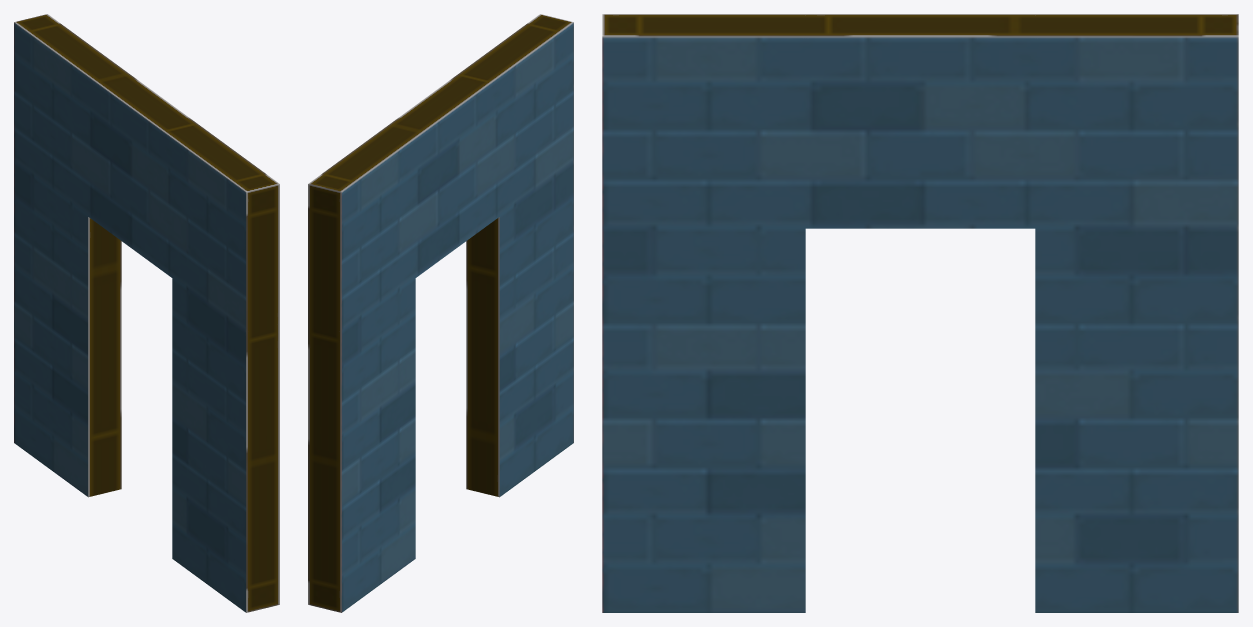
The model's file is Wall_Door_14.fbx.
3 renders of one model, left to right at view 1: azimuth 30°, elevation 25°; view 2: azimuth 150°, elevation 25°; view 3: azimuth 270°, elevation 25°, orthographic. The views are drawn at different scales.
Parts seen in each view (by area): view 1: Wall_Door_14; view 2: Wall_Door_14; view 3: Wall_Door_14.
Boxes of the visible parts, x1=… form: Wall_Door_14: x1=14, y1=14, x2=279, y2=612; Wall_Door_14: x1=308, y1=14, x2=573, y2=612; Wall_Door_14: x1=602, y1=14, x2=1238, y2=612.
Size of the model in its own units: 50 by 600 by 600.
